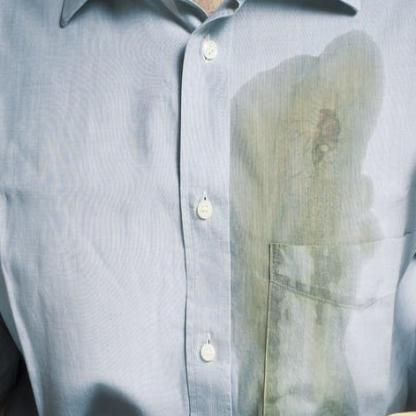coffee: (234, 72, 370, 249), (235, 253, 274, 412)
